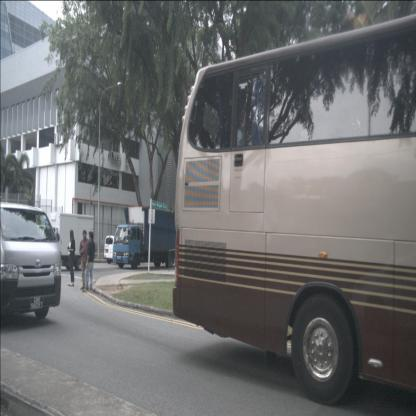human-pedestrian-adult: (83, 231, 95, 292), (79, 230, 91, 290), (67, 230, 75, 286)
vehicle-bus-rigid: (172, 14, 416, 408)
vehicle-car: (0, 200, 62, 328), (104, 235, 139, 264)
vehicle-truck: (112, 206, 181, 270), (20, 212, 94, 270)
